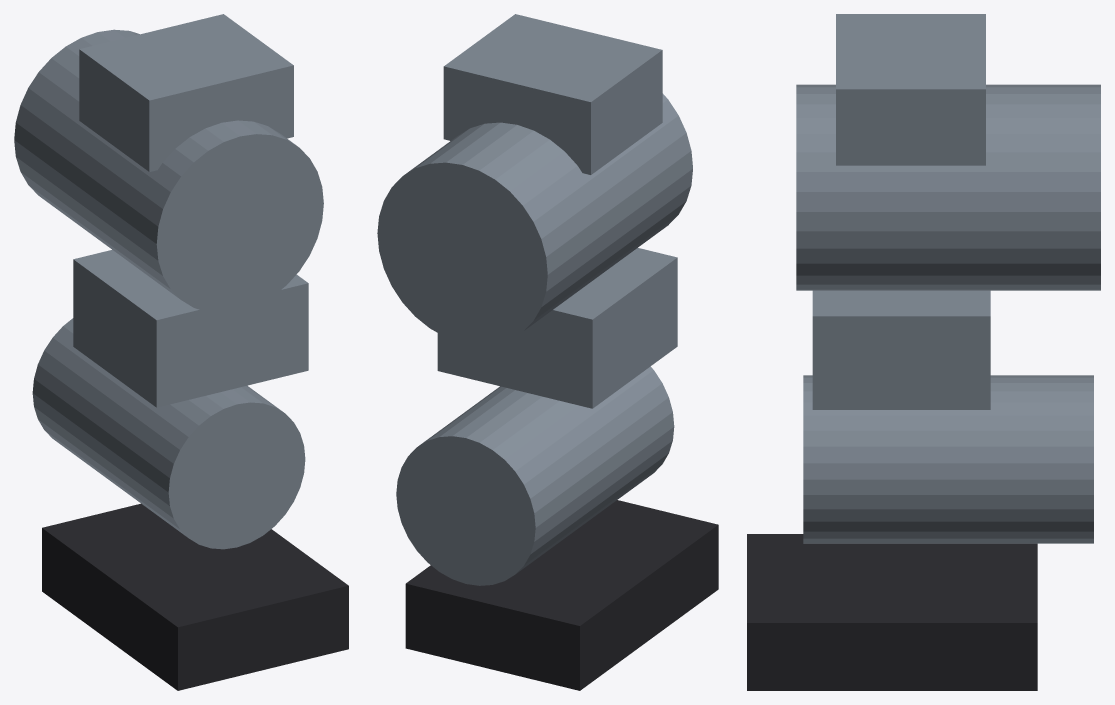
Rendered from leg_left_line.obj.
The picture shows the model from 3 angles, left to right: view 1: azimuth 30°, elevation 25°; view 2: azimuth 150°, elevation 25°; view 3: azimuth 270°, elevation 25°; orthographic projection. The views are drawn at different scales.
Bounding box in the file's own units: 0.45 × 1.4 × 0.755.
